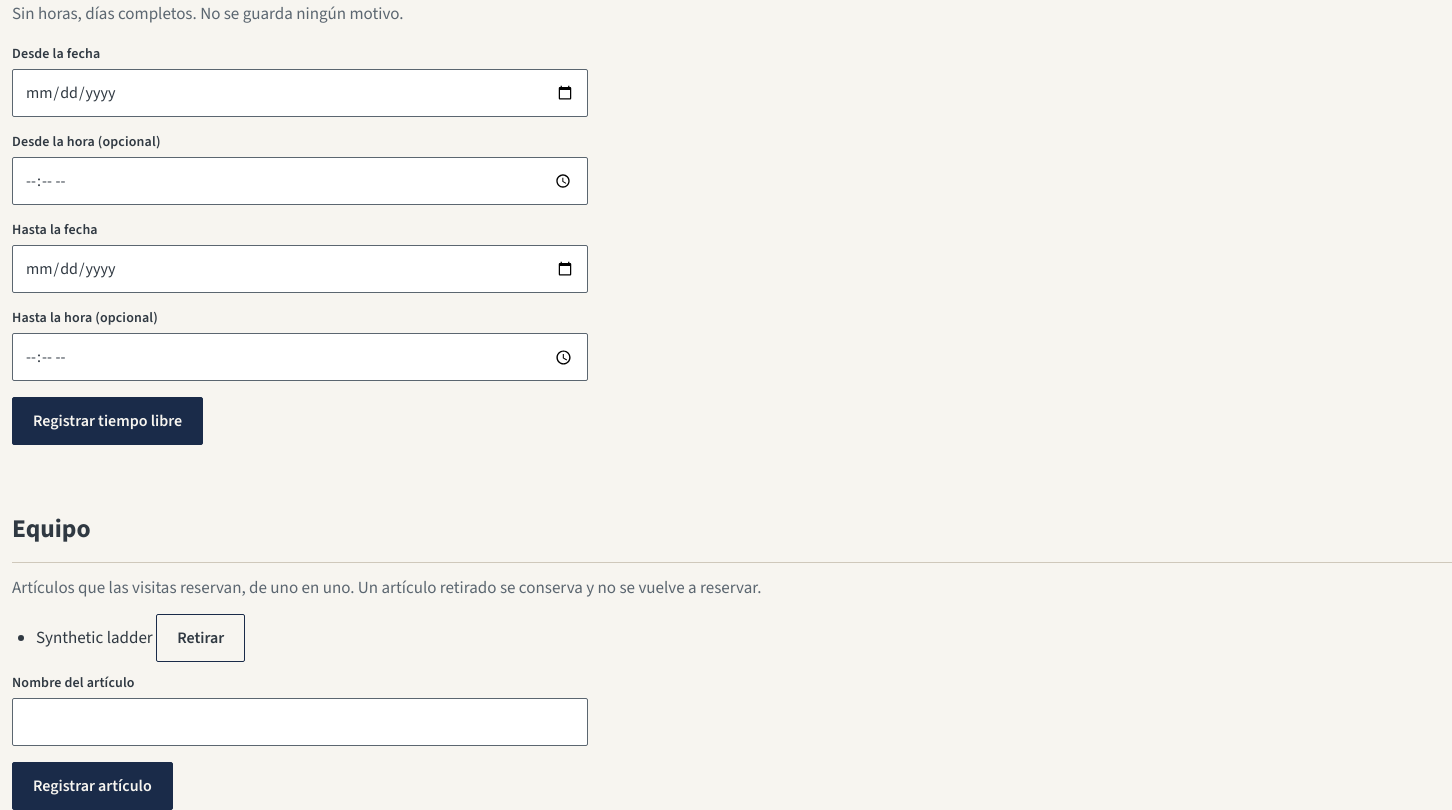
Scenario: [HH-SCH-03][OWN-DEC-123] the Staff screen: working hours, time off and equipment › [HH-SCH-03] equipment is registered by name; a refusal is written out
(page scrolled)
Expected: the element with test id "equipment" shows "Synthetic ladder", x1=36 y1=626 x2=153 y2=650
Type "synthetic LADDER" into the field labelled "Nombre del artículo". click: (300, 722)
box: x1=12 y1=698 x2=588 y2=746
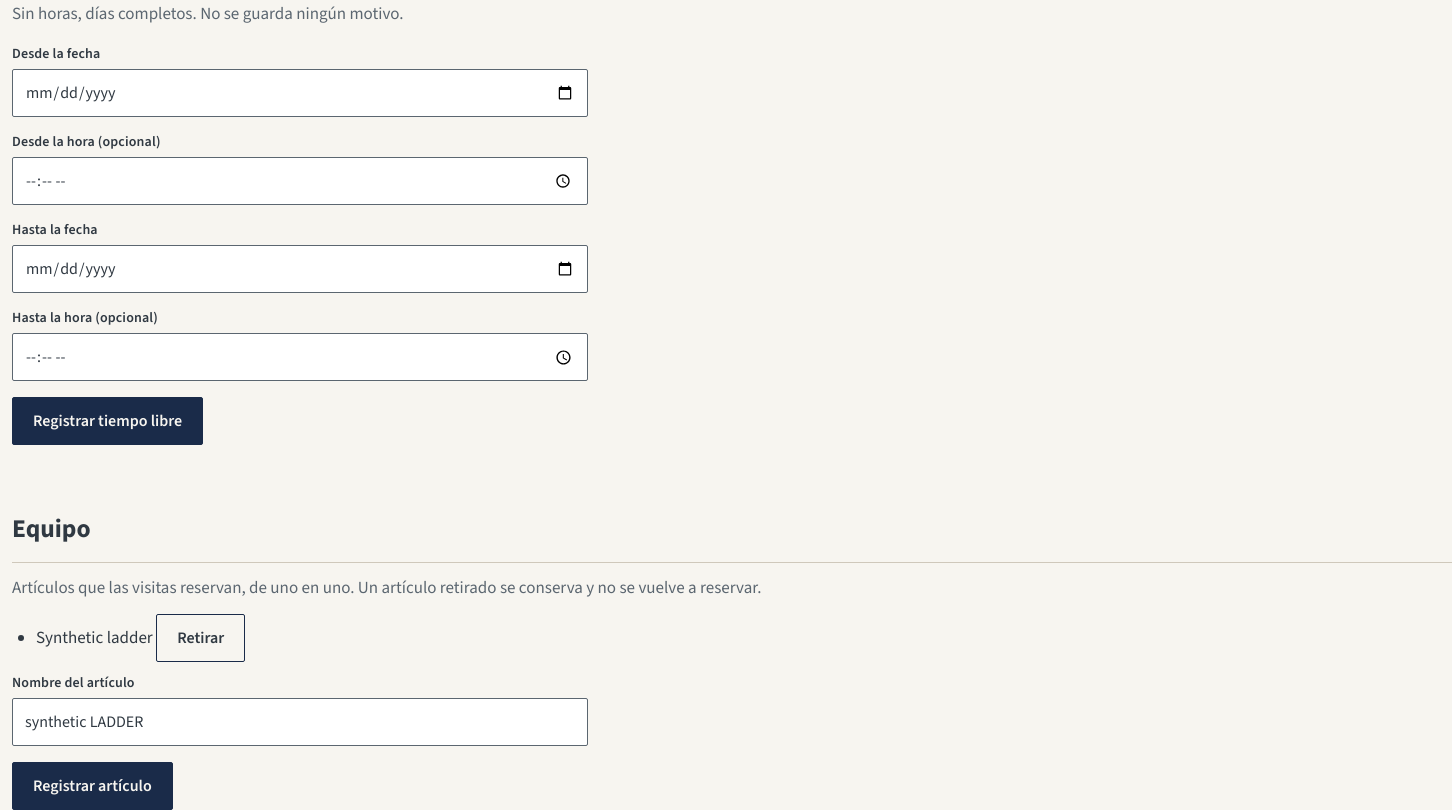
Click the button "Registrar artículo". click: (92, 786)
box: x1=12 y1=762 x2=173 y2=809
(page scrolled)
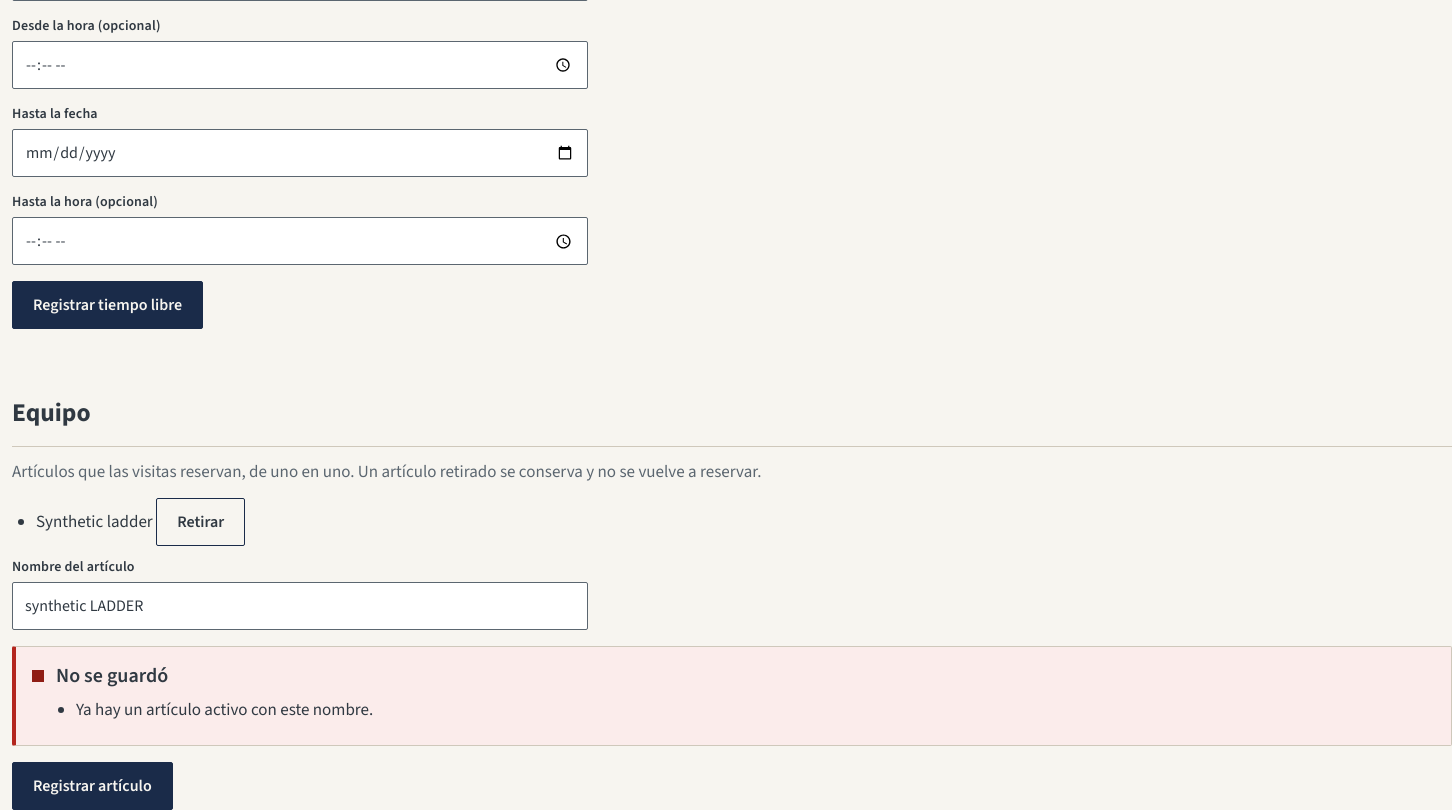
Result: the message shows "Ya hay un artículo activo con este nombre." at x1=76 y1=698 x2=373 y2=722
